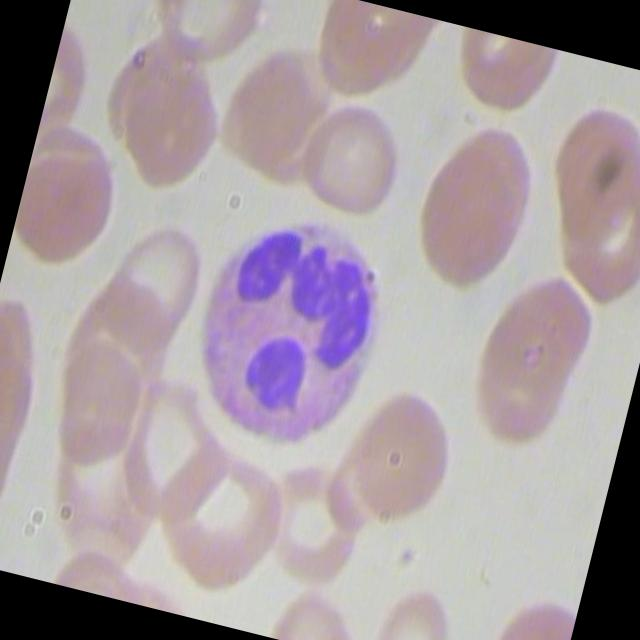RBC: (458, 249, 606, 464), (398, 109, 552, 299), (136, 432, 298, 602), (88, 357, 245, 529), (6, 115, 138, 282), (335, 370, 465, 528), (534, 80, 640, 248), (92, 211, 222, 345), (289, 89, 419, 222), (255, 444, 371, 588), (138, 0, 272, 81), (365, 569, 460, 640), (480, 574, 580, 640)
WBC: (158, 190, 408, 464)
